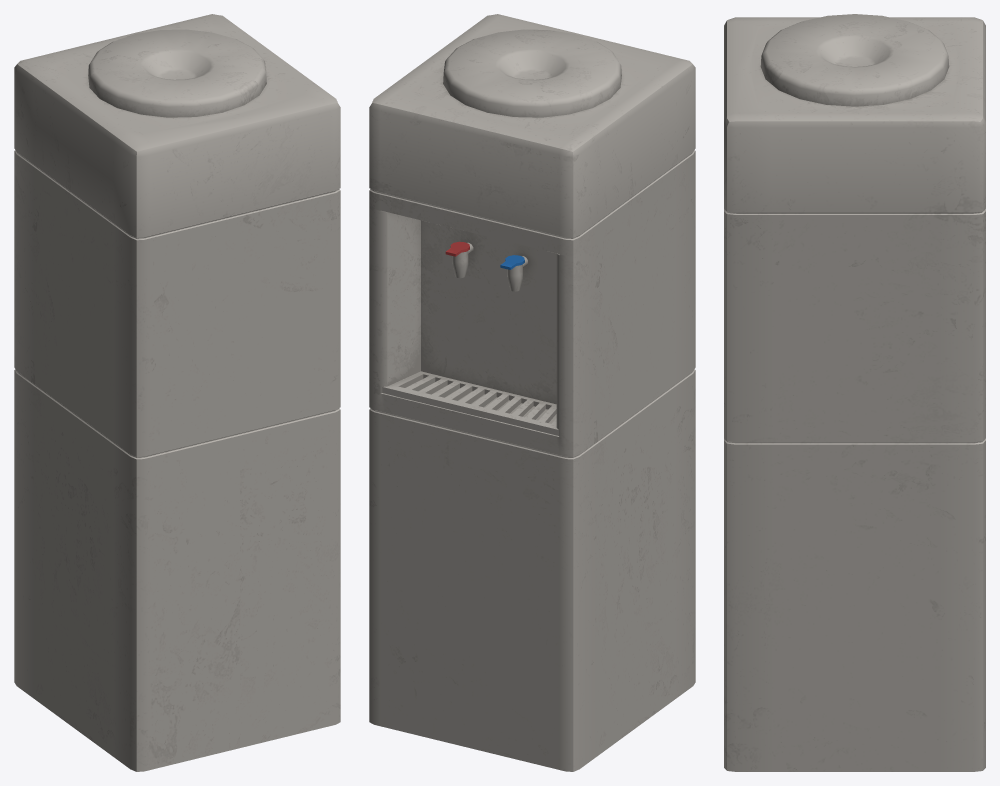
The model's file is office_watercooler_cube_246_cube.fbx.
3 renders of one model, left to right at view 1: azimuth 30°, elevation 25°; view 2: azimuth 150°, elevation 25°; view 3: azimuth 270°, elevation 25°, orthographic. The views are drawn at different scales.
Parts seen in each view (by area): view 1: office_watercooler_cube_246_cube; view 2: office_watercooler_cube_246_cube; view 3: office_watercooler_cube_246_cube.
Boxes of the visible parts, box(x1,y1,x2,y2) form: office_watercooler_cube_246_cube: box(14, 14, 340, 771); office_watercooler_cube_246_cube: box(369, 14, 695, 771); office_watercooler_cube_246_cube: box(724, 14, 985, 771).
Bounding box in the file's own units: 2 × 5.87 × 2.08.
